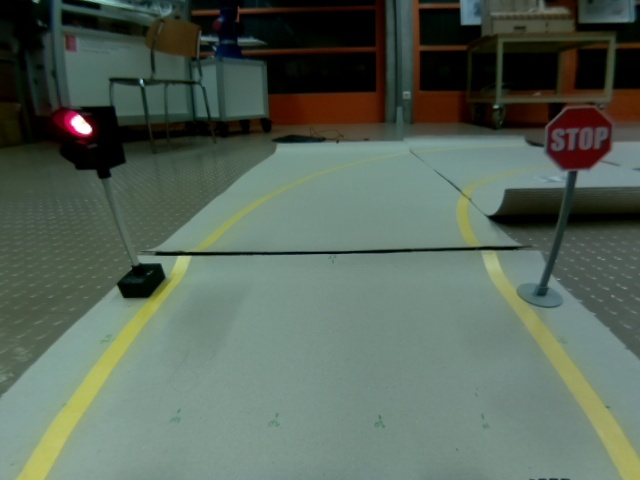stop: (545, 104, 614, 171)
trafficLightRed: (47, 102, 128, 173)
